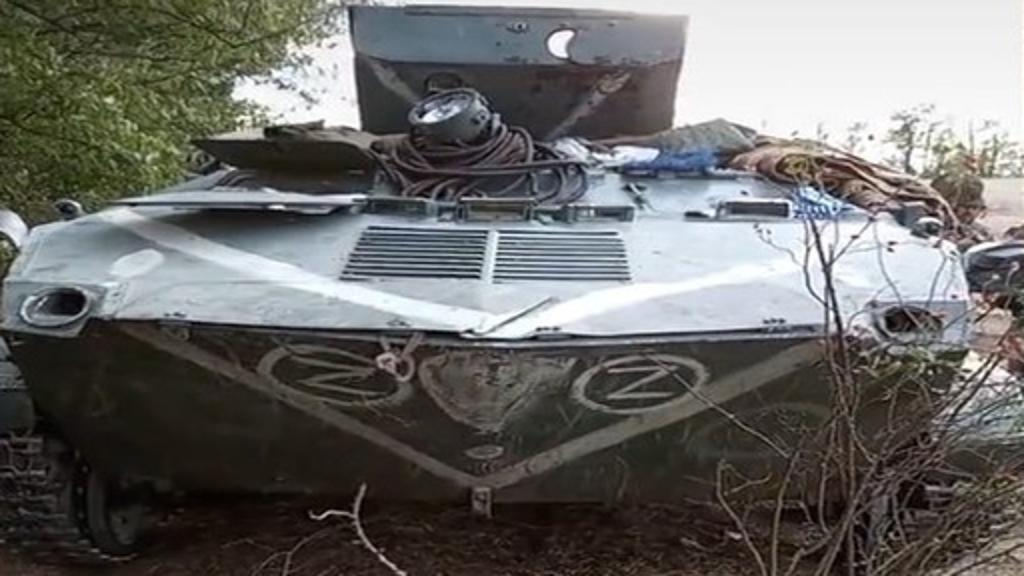APC-IFV: (0, 20, 978, 552)
